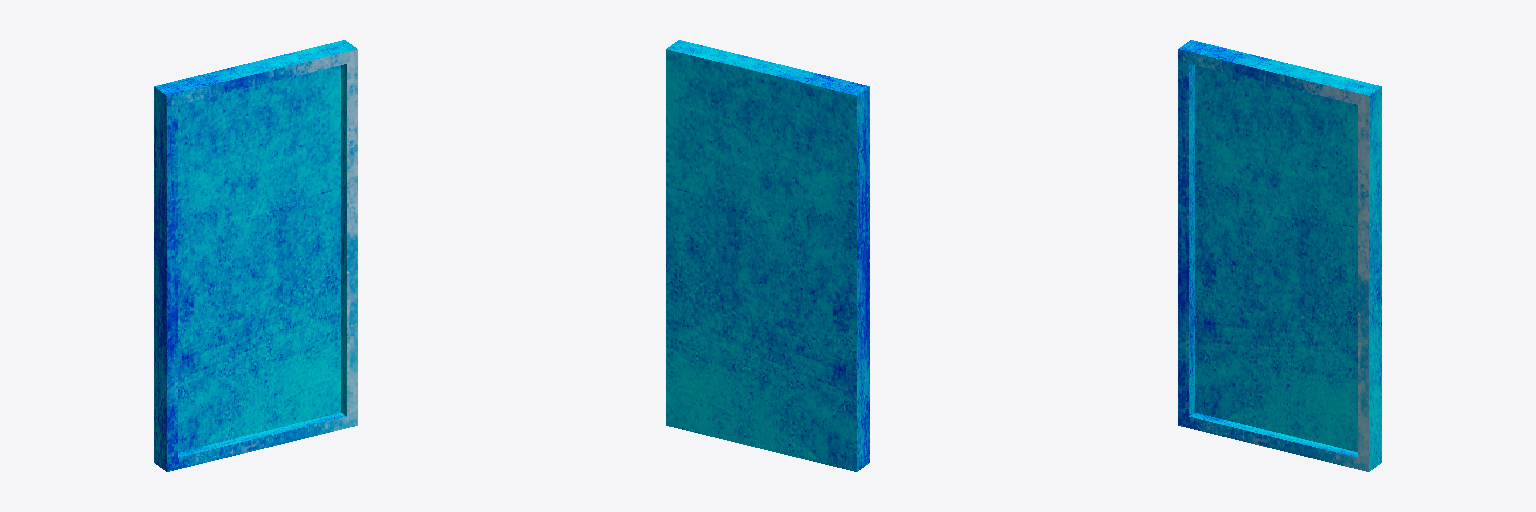
The picture shows the model from 3 angles: view 1: azimuth 30°, elevation 25°; view 2: azimuth 150°, elevation 25°; view 3: azimuth 330°, elevation 25°; orthographic projection.
Visible parts, largest first — view 1: Cube_Cube.003; view 2: Cube_Cube.003; view 3: Cube_Cube.003.
Part boxes in pixels (x1,y1,x2,y2): Cube_Cube.003: (154,40,357,471); Cube_Cube.003: (666,40,869,471); Cube_Cube.003: (1178,40,1381,471).
Size of the model in its own units: 3.4 by 6.4 by 0.4.
1 materials, 1 textured.